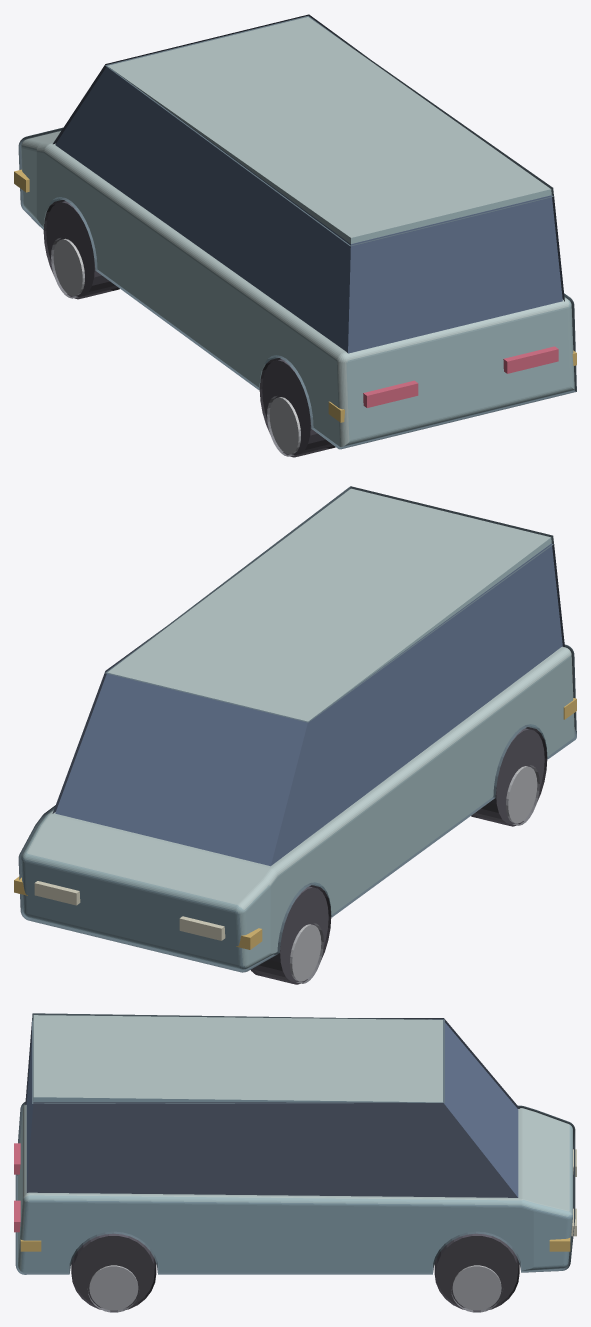
Rendered from traffic_van_1.glb.
3 renders of one model, top to bottom at view 1: azimuth 30°, elevation 25°; view 2: azimuth 150°, elevation 25°; view 3: azimuth 270°, elevation 25°, orthographic. The views are drawn at different scales.
Parts seen in each view (by area): view 1: car, blink; view 2: car, blink; view 3: car, blink.
Boxes of the visible parts, box(x1,y1,x2,y2) form: car: box(18, 14, 576, 457); blink: box(14, 169, 576, 422); car: box(18, 486, 576, 984); blink: box(14, 698, 576, 949); car: box(14, 1013, 576, 1312); blink: box(20, 1238, 570, 1251).
Bounding box in the file's own units: 2.07 × 2.02 × 4.96.
